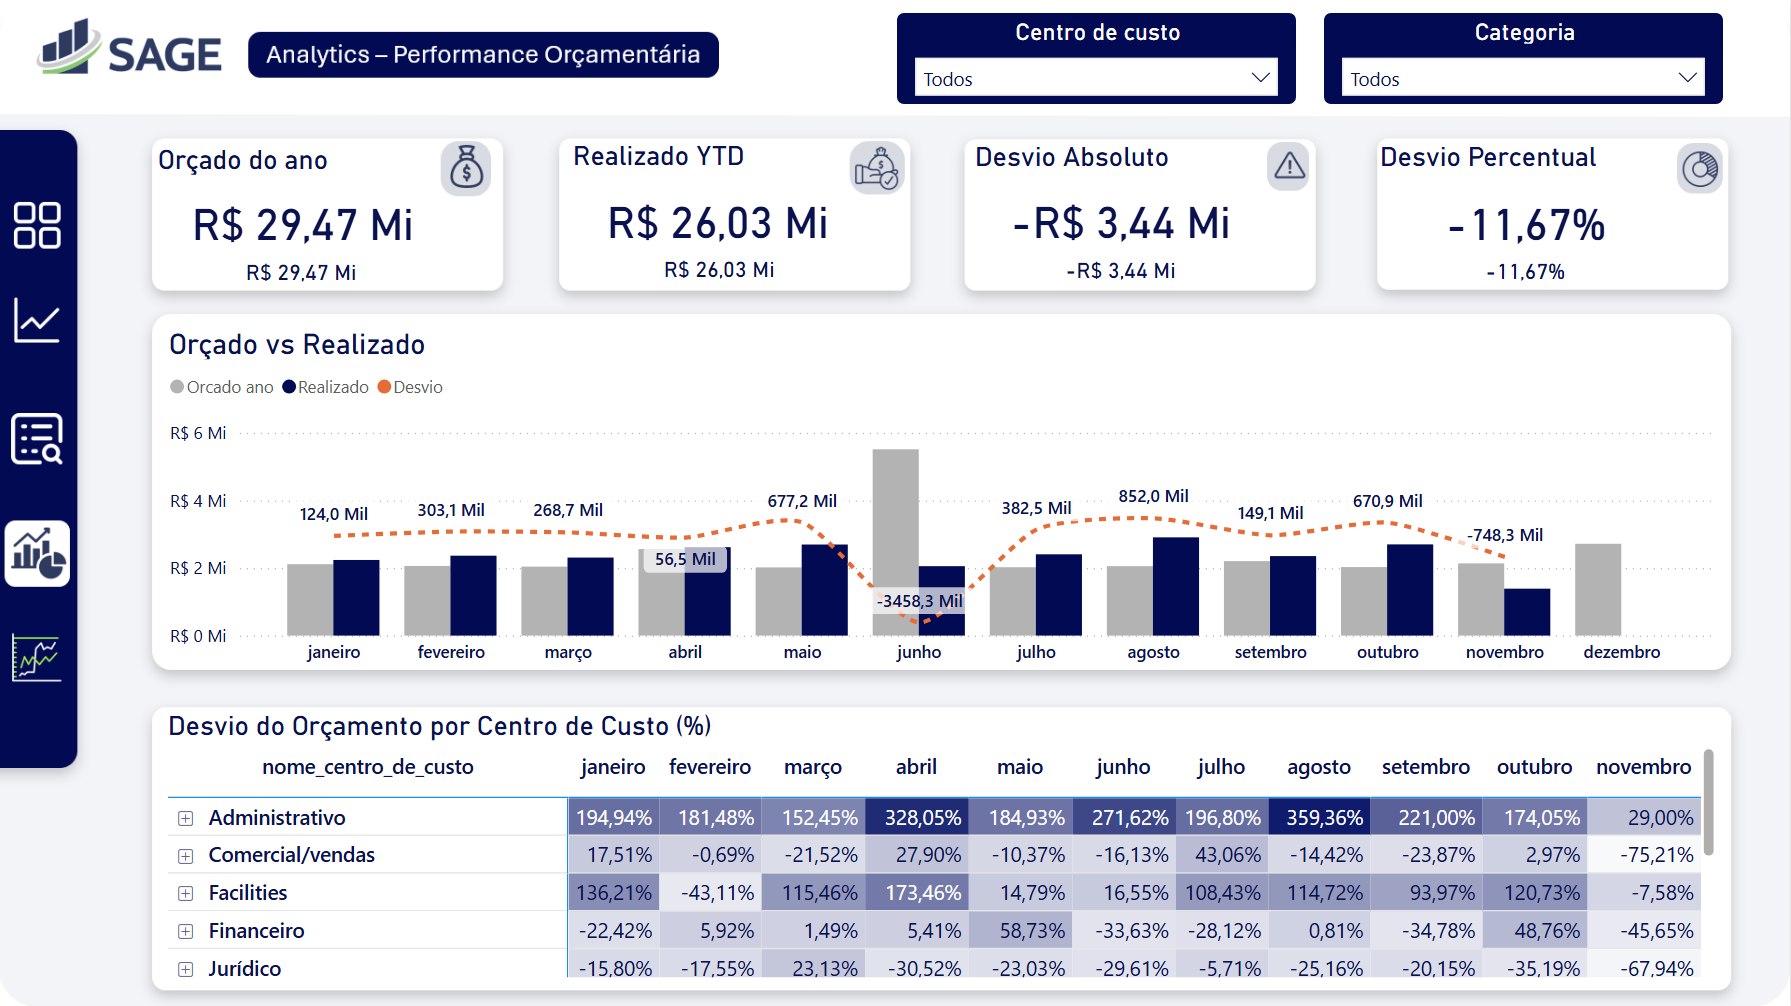

The page's visual inventory and layout, read from the dashboard file:
{"tool":"powerbi","page":{"name":"Analytics - Performance","canvas":[1280,720],"ordinal":3},"visuals":[{"type":"card","title":"Realizado YTD","fields":{"Values":["Medidas.Realizado YTD"]},"box":[406,100,217,91],"z":0},{"type":"card","title":"Orçado do ano","fields":{"Values":["Medidas.Orcado ano"]},"box":[109,103,217,88],"z":1000},{"type":"card","fields":{"Values":["Medidas.Orcado ano"]},"box":[142.9,178.8,147.2,33.3],"z":2000},{"type":"card","fields":{"Values":["Medidas.Realizado YTD"]},"box":[441.2,176.3,147.3,33.5],"z":3000},{"type":"slicer","title":"Centro de custo","fields":{"Values":["dim_centro_de_custo.nome_centro_de_custo"]},"box":[642.3,9.2,285.4,65.4],"z":4000},{"type":"slicer","title":"Categoria","fields":{"Values":["dim_categoria.nome_categoria"]},"box":[946.9,9.2,285.4,65.4],"z":5000},{"type":"card","title":"Desvio Absoluto","fields":{"Values":["Medidas.Desvio Anual"]},"box":[692.6,100.8,217.2,89.9],"z":6000},{"type":"card","fields":{"Values":["Medidas.Desvio Anual"]},"box":[728,177.3,147.3,33.5],"z":7000},{"type":"card","title":"Desvio Percentual","fields":{"Values":["Medidas.Desvio perc anual"]},"box":[981.9,101,217.6,92.9],"z":8000},{"type":"card","fields":{"Values":["Medidas.Desvio perc anual"]},"box":[1017,178,147.3,33.5],"z":9000},{"type":"lineClusteredColumnComboChart","title":"Orçado vs Realizado","fields":{"Y":["Medidas.Orcado ano","Medidas.Realizado YTD"],"Category":["dim_mes.nome_mes"],"Y2":["Medidas.Desvio grafico"]},"box":[117.4,233.9,1114.8,250.4],"z":10000},{"type":"pivotTable","title":"Desvio do Orçamento por Centro de Custo (%)","fields":{"Rows":["dim_centro_de_custo.nome_centro_de_custo","dim_categoria.nome_categoria"],"Columns":["dim_mes.nome_mes"],"Values":["Medidas.Desvio perc anual"]},"box":[116.7,507,1115.5,196.1],"z":11000},{"type":"actionButton","box":[5.9,292.2,44,39.8],"z":12000},{"type":"actionButton","box":[5.9,453.2,44,39.8],"z":13000},{"type":"actionButton","box":[5.9,208.4,44,39.8],"z":14000},{"type":"actionButton","box":[5,140.4,44.6,39.6],"z":15000}]}

Visuals, with their boxes on the page's 1280x720 design canvas (x1, y1, x2, y2). These are canvas units, not pixel positions in the 1791x1006 screenshot, which may show the page scaled, cropped or inside an application window:
"Realizado YTD" card: select_region(406, 100, 623, 191)
"Orçado do ano" card: select_region(109, 103, 326, 191)
card - Medidas.Orcado ano: select_region(143, 179, 290, 212)
card - Medidas.Realizado YTD: select_region(441, 176, 588, 210)
"Centro de custo" slicer: select_region(642, 9, 928, 75)
"Categoria" slicer: select_region(947, 9, 1232, 75)
"Desvio Absoluto" card: select_region(693, 101, 910, 191)
card - Medidas.Desvio Anual: select_region(728, 177, 875, 211)
"Desvio Percentual" card: select_region(982, 101, 1200, 194)
card - Medidas.Desvio perc anual: select_region(1017, 178, 1164, 212)
"Orçado vs Realizado" lineClusteredColumnComboChart: select_region(117, 234, 1232, 484)
"Desvio do Orçamento por Centro de Custo (%)" pivotTable: select_region(117, 507, 1232, 703)
actionButton: select_region(6, 292, 50, 332)
actionButton: select_region(6, 453, 50, 493)
actionButton: select_region(6, 208, 50, 248)
actionButton: select_region(5, 140, 50, 180)
